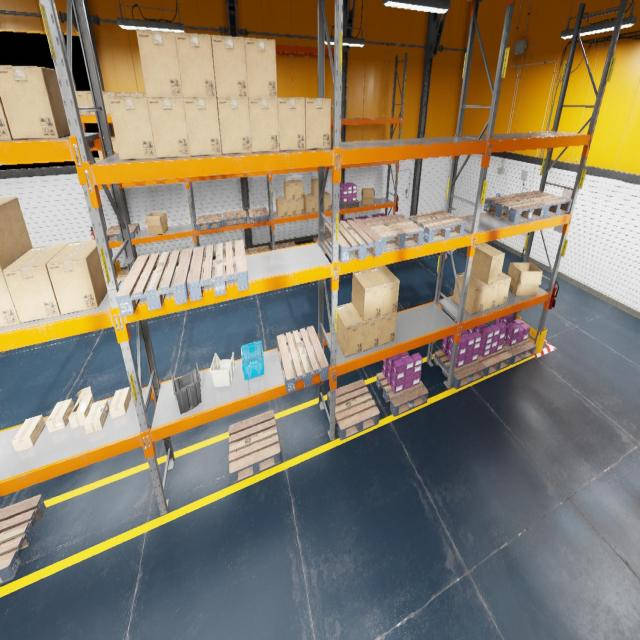box: (2, 242, 68, 323), (0, 65, 70, 139), (46, 238, 108, 314), (136, 29, 183, 97), (108, 96, 156, 160), (175, 32, 217, 98), (147, 98, 190, 158), (0, 196, 32, 271), (211, 35, 248, 97), (183, 98, 222, 156), (217, 98, 252, 154), (245, 37, 277, 98), (248, 98, 280, 152), (352, 268, 382, 320), (370, 265, 400, 316), (278, 97, 305, 151), (453, 272, 487, 314), (470, 242, 504, 284), (337, 303, 363, 357), (305, 98, 331, 149), (353, 305, 381, 351), (507, 262, 543, 296), (12, 415, 45, 451), (68, 386, 95, 428), (0, 271, 20, 327), (470, 272, 499, 310), (46, 398, 74, 432), (84, 399, 109, 434), (109, 387, 131, 418), (379, 312, 397, 346), (0, 95, 13, 140), (495, 272, 511, 306), (145, 212, 168, 234), (98, 136, 114, 160), (75, 91, 91, 115), (102, 92, 116, 115), (283, 180, 295, 200), (292, 180, 303, 199), (86, 92, 95, 115), (304, 193, 314, 213), (276, 197, 286, 217), (362, 188, 374, 204), (286, 199, 295, 216), (295, 198, 304, 214), (311, 178, 318, 197), (324, 192, 331, 210), (111, 136, 118, 153), (312, 194, 318, 212), (115, 91, 130, 96), (90, 158, 100, 164), (130, 92, 144, 96), (143, 92, 146, 96)
pallets: (116, 248, 193, 316), (0, 494, 46, 584), (229, 410, 280, 484), (188, 239, 248, 301), (277, 326, 328, 393), (327, 380, 380, 440), (325, 218, 382, 262), (376, 372, 428, 417), (362, 214, 424, 251), (434, 349, 485, 388), (408, 210, 466, 243), (484, 194, 545, 223), (513, 190, 572, 217), (474, 348, 512, 377), (500, 338, 536, 364), (106, 223, 140, 242), (196, 213, 222, 231), (222, 210, 246, 226), (248, 207, 269, 223), (248, 246, 270, 254), (340, 200, 359, 208), (275, 242, 296, 249), (233, 249, 248, 256), (117, 269, 128, 277), (313, 236, 326, 242)
